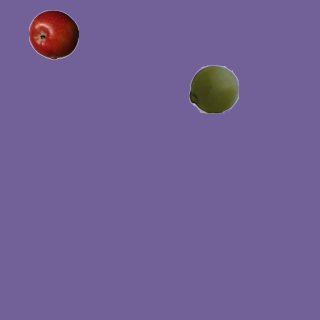Apple Braeburn: (28, 9, 78, 59)
Grape White 4: (188, 63, 238, 113)
